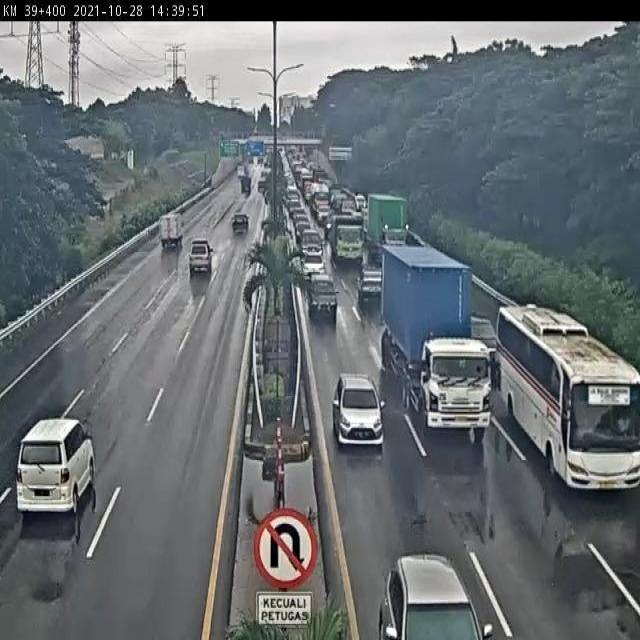ARABA: (373, 537, 483, 640), (16, 420, 97, 516), (328, 372, 377, 440), (446, 309, 488, 364), (305, 269, 338, 312), (183, 248, 214, 285), (352, 259, 377, 297), (298, 224, 323, 256), (228, 220, 250, 243)
KAMYONET: (325, 212, 361, 257), (151, 216, 186, 259)
OTOBUS: (491, 305, 633, 483)
TIR: (376, 237, 480, 420)
